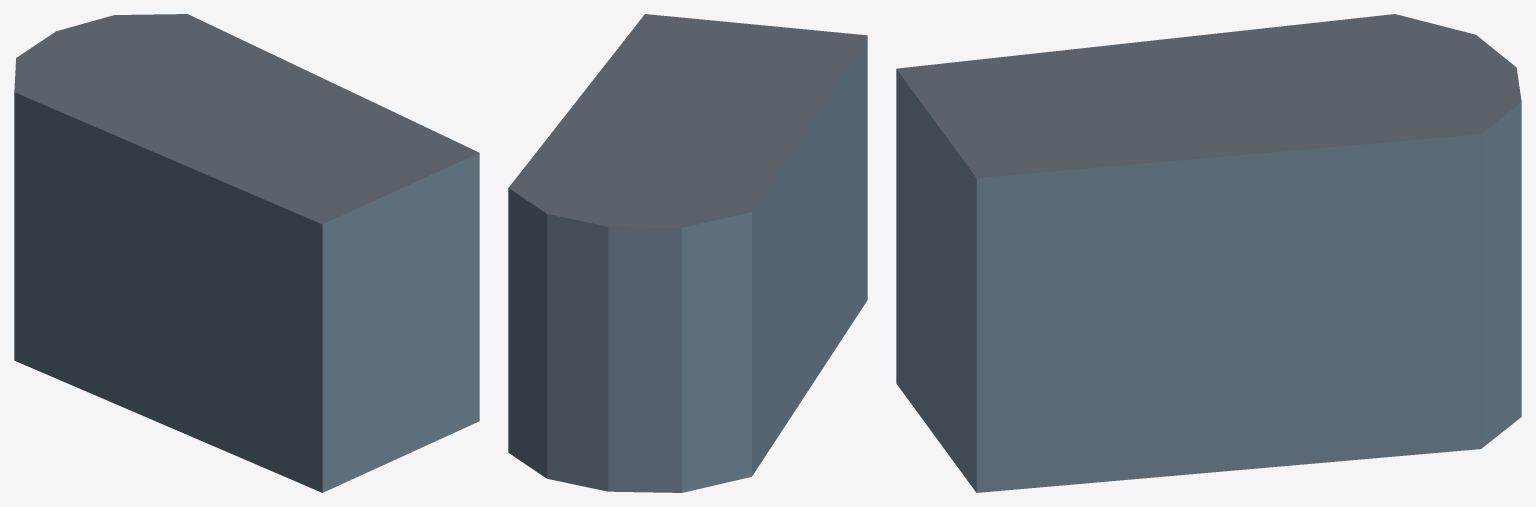
3 views of the same model, side by side, from view 1: azimuth 30°, elevation 25°; view 2: azimuth 150°, elevation 25°; view 3: azimuth 270°, elevation 25° (orthographic). The views are drawn at different scales.
Parts seen in each view (by area): view 1: HP-w300481519; view 2: HP-w300481519; view 3: HP-w300481519.
Part boxes in pixels (box(x1,y1,x2,y2)): HP-w300481519: box(14, 14, 479, 492); HP-w300481519: box(508, 14, 867, 492); HP-w300481519: box(896, 14, 1521, 492).
Bounding box in the file's own units: 46.74 × 41.8 × 75.25.
